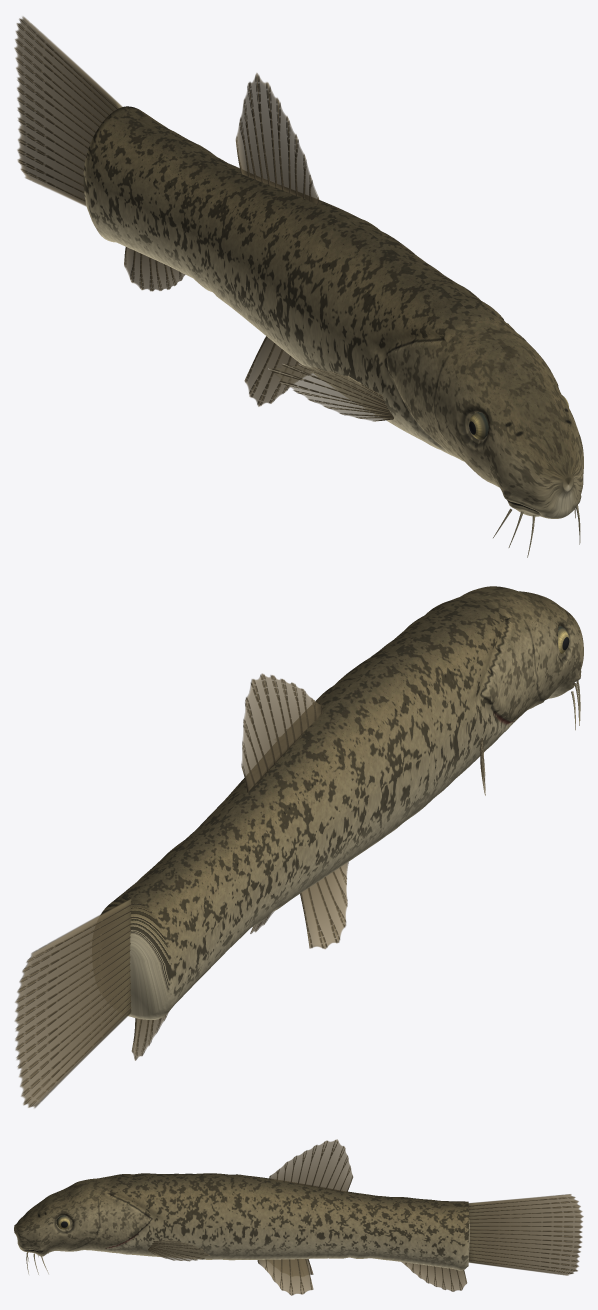
Rendered from sliz.glb.
The picture shows the model from 3 angles, top to bottom: view 1: azimuth 30°, elevation 25°; view 2: azimuth 150°, elevation 25°; view 3: azimuth 270°, elevation 25°; orthographic projection. The views are drawn at different scales.
Parts seen in each view (by area): view 1: Body, FinCaudal, FinDorsal1, FinPectoral, FinPelvic, FinAnal; view 2: Body, FinCaudal, FinDorsal1, FinPelvic, FinAnal; view 3: Body, FinCaudal, FinDorsal1, FinPelvic, FinAnal, FinPectoral.
Part boxes in pixels (x1=…): Body: x1=83, y1=106, x2=583, y2=518; FinCaudal: x1=14, y1=16, x2=122, y2=206; FinDorsal1: x1=235, y1=73, x2=319, y2=204; FinPectoral: x1=268, y1=364, x2=393, y2=421; FinPelvic: x1=244, y1=336, x2=311, y2=406; FinAnal: x1=124, y1=247, x2=185, y2=291; Body: x1=100, y1=586, x2=583, y2=1019; FinCaudal: x1=14, y1=899, x2=131, y2=1108; FinDorsal1: x1=241, y1=673, x2=322, y2=792; FinPelvic: x1=250, y1=862, x2=348, y2=948; FinAnal: x1=131, y1=1012, x2=168, y2=1060; Body: x1=14, y1=1173, x2=469, y2=1270; FinCaudal: x1=468, y1=1194, x2=583, y2=1275; FinDorsal1: x1=269, y1=1139, x2=353, y2=1192; FinPelvic: x1=257, y1=1259, x2=313, y2=1295; FinAnal: x1=401, y1=1262, x2=467, y2=1291; FinPectoral: x1=148, y1=1239, x2=210, y2=1261.
Bounding box in the file's own units: 0.2239 × 0.2973 × 1.
9 materials, 8 textured.
